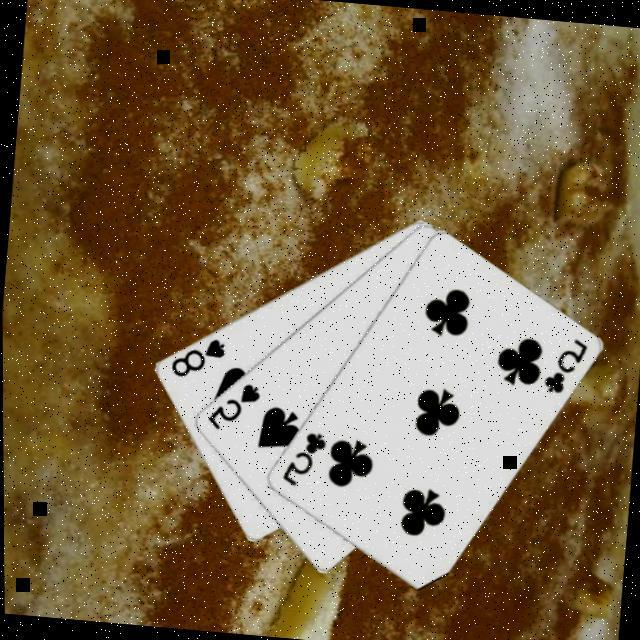5C: (540, 334, 591, 399), (278, 428, 329, 492)
5S: (204, 376, 264, 436)
8S: (167, 332, 229, 383)
